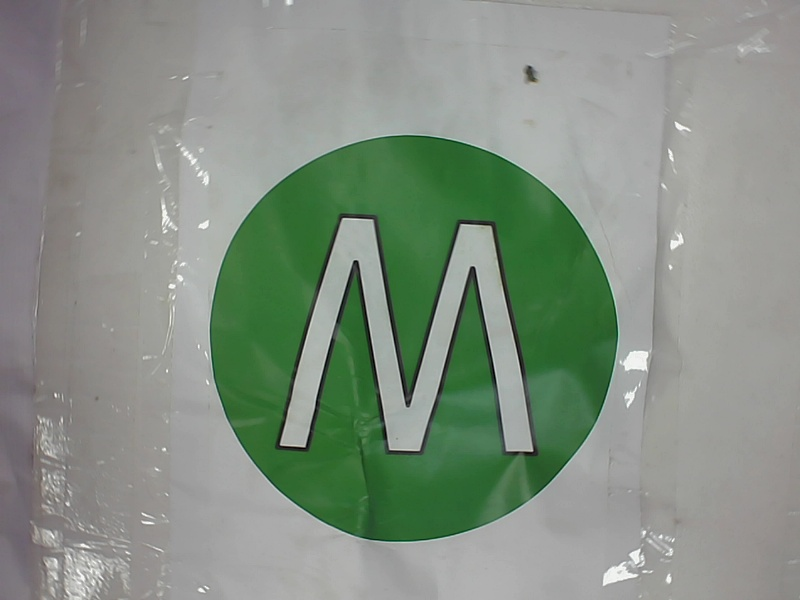areaB: (195, 131, 631, 547)
